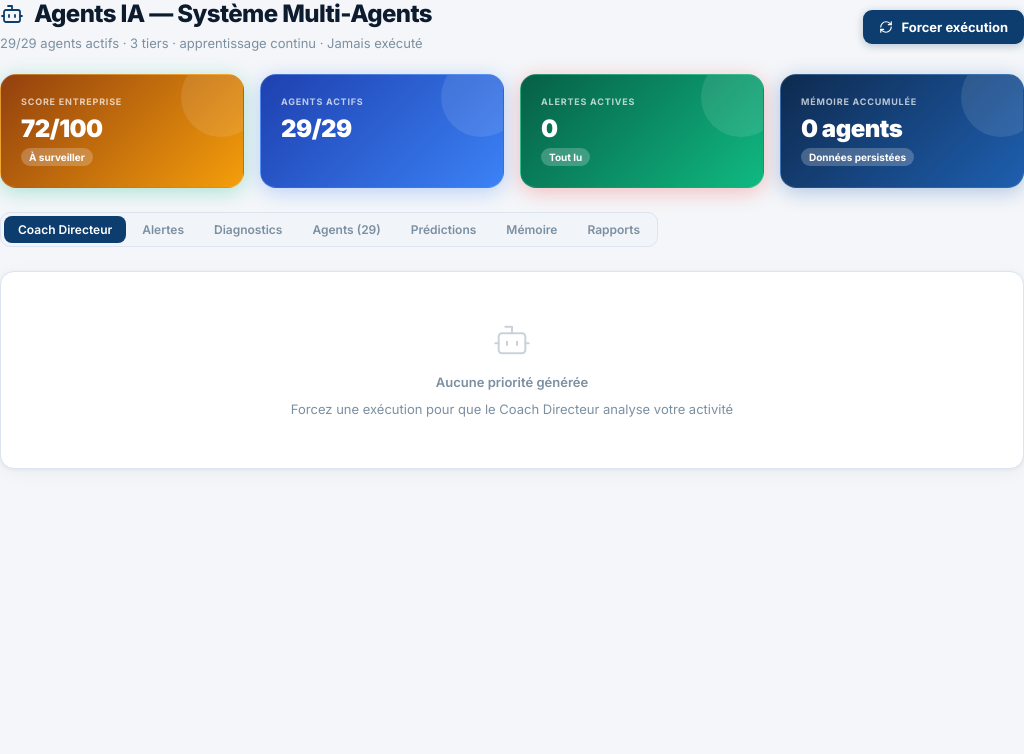
it: SOUS-ONGLET RAPPORTS — résumé exécutif (dé-violeté) › affiche le résumé exécutif, le score et l'action prioritaire aux vraies valeurs
Step 1. Click the button "Rapports" → [614, 230], box [573, 216, 654, 243]
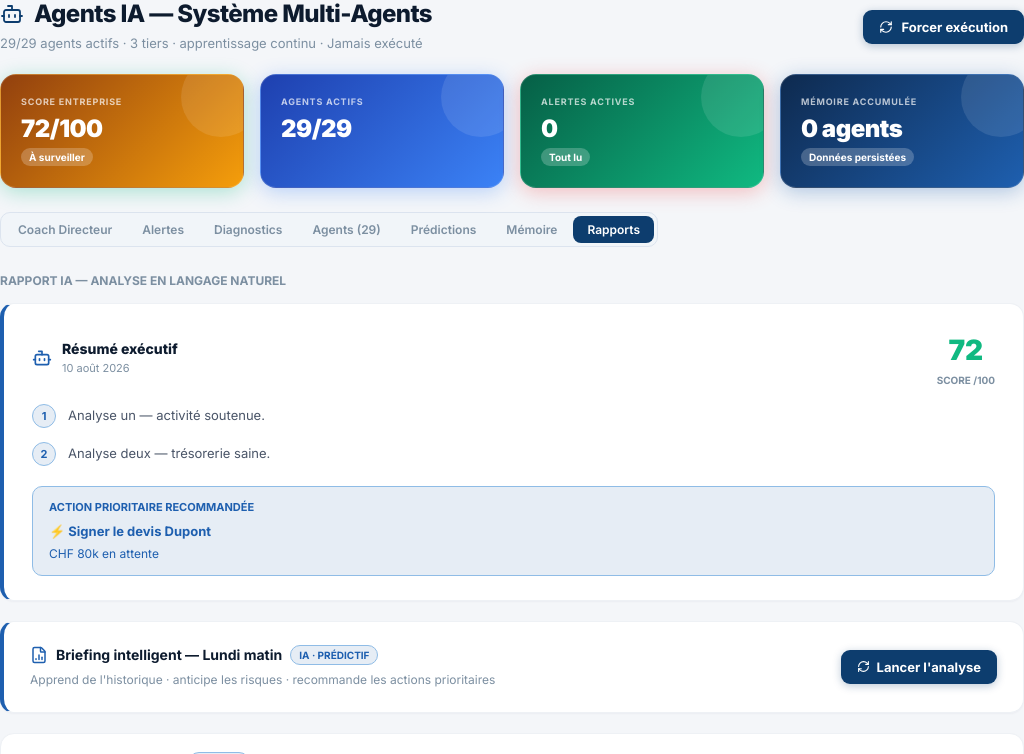
expect the text "Résumé exécutif" is shown: met, box [62, 338, 178, 360]
expect the text "72" is shown: met, box [948, 333, 983, 367]
expect the text "Action prioritaire recommandée" is shown: met, box [49, 500, 254, 514]
